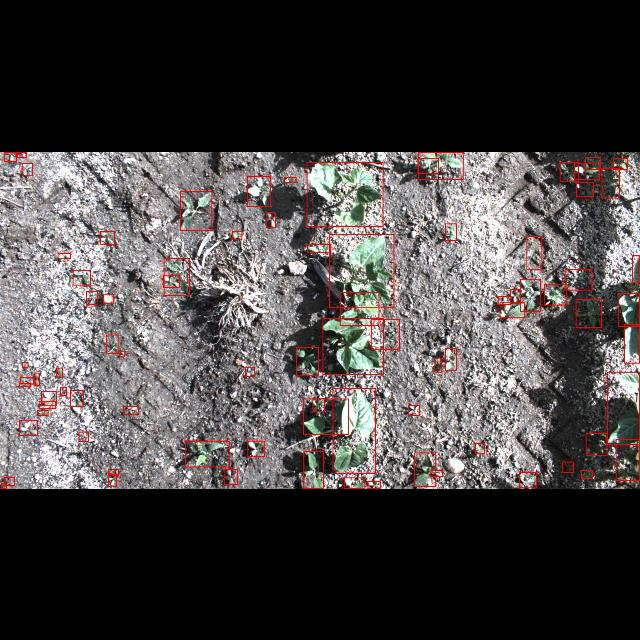crop: (307, 161, 383, 225), (330, 233, 394, 307), (332, 388, 376, 472), (322, 318, 383, 374), (607, 372, 639, 444), (304, 398, 348, 434), (616, 438, 638, 479), (618, 292, 640, 326), (624, 323, 640, 362), (632, 254, 640, 282)
weed: (180, 190, 212, 230), (339, 292, 378, 324), (418, 152, 464, 178), (185, 441, 229, 467), (164, 258, 190, 294), (371, 319, 399, 349), (576, 298, 602, 328), (414, 452, 436, 486), (304, 452, 324, 488), (520, 278, 540, 312), (248, 176, 270, 206), (296, 346, 318, 376), (564, 269, 592, 289), (526, 236, 542, 268), (602, 167, 618, 197), (544, 284, 566, 304), (586, 433, 606, 455), (574, 162, 600, 178), (500, 302, 524, 318), (560, 162, 578, 180), (19, 420, 37, 436), (418, 158, 438, 172), (248, 440, 264, 456), (520, 472, 536, 488), (73, 270, 91, 284), (576, 182, 594, 196), (106, 334, 118, 354), (70, 390, 84, 406), (163, 274, 179, 288), (446, 348, 456, 370), (225, 468, 238, 484), (344, 478, 364, 488), (42, 391, 56, 405), (100, 230, 114, 244), (307, 243, 331, 251), (446, 222, 456, 240), (86, 290, 98, 304), (313, 398, 325, 412), (586, 157, 600, 169), (266, 212, 276, 226), (510, 289, 520, 303), (613, 158, 627, 168), (22, 162, 32, 175), (20, 376, 34, 384), (124, 406, 138, 414), (434, 357, 442, 371), (408, 405, 419, 415), (475, 442, 485, 453), (4, 476, 14, 486), (79, 431, 89, 441), (563, 462, 573, 472), (4, 152, 16, 160), (40, 402, 56, 408), (109, 474, 117, 486), (498, 296, 510, 304), (34, 372, 40, 386), (104, 294, 114, 302), (232, 231, 242, 239), (582, 470, 592, 478), (246, 366, 254, 376), (58, 252, 70, 258), (284, 176, 296, 182), (368, 482, 380, 488), (431, 470, 443, 476), (108, 469, 118, 475), (56, 368, 62, 377), (19, 383, 31, 387), (60, 387, 66, 395), (17, 152, 27, 156), (38, 410, 48, 414), (22, 362, 28, 368), (2, 484, 6, 488), (120, 352, 124, 356)
